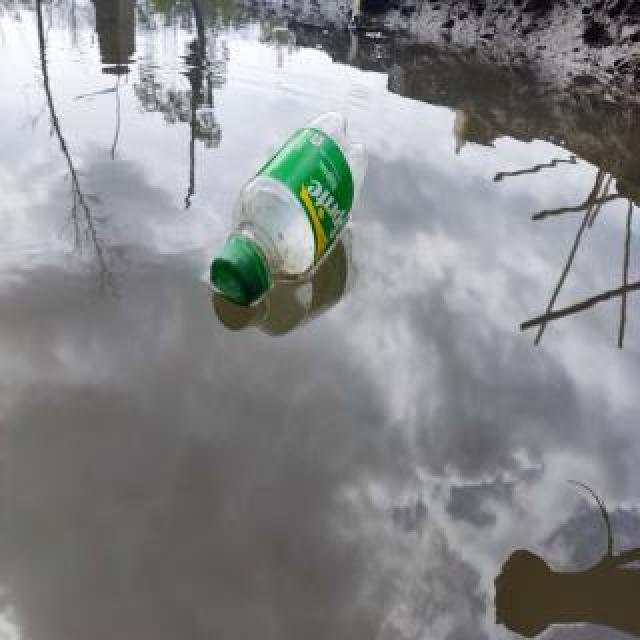bottle: (207, 105, 373, 311)
